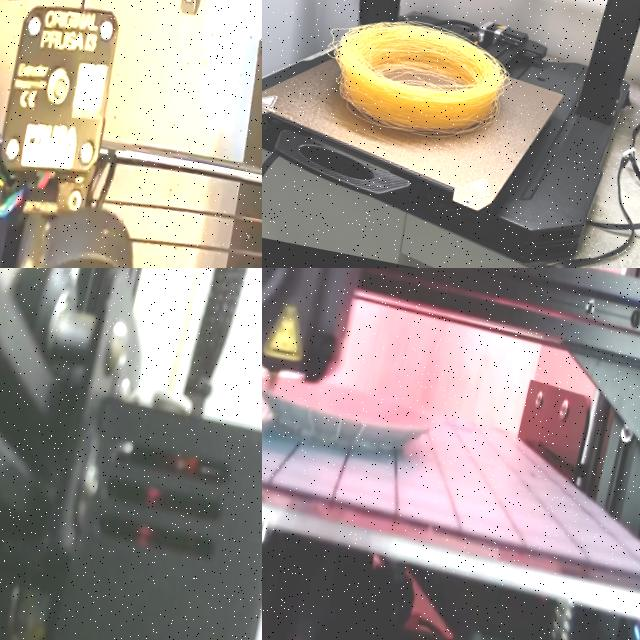spaghetti: (307, 1, 524, 158)
